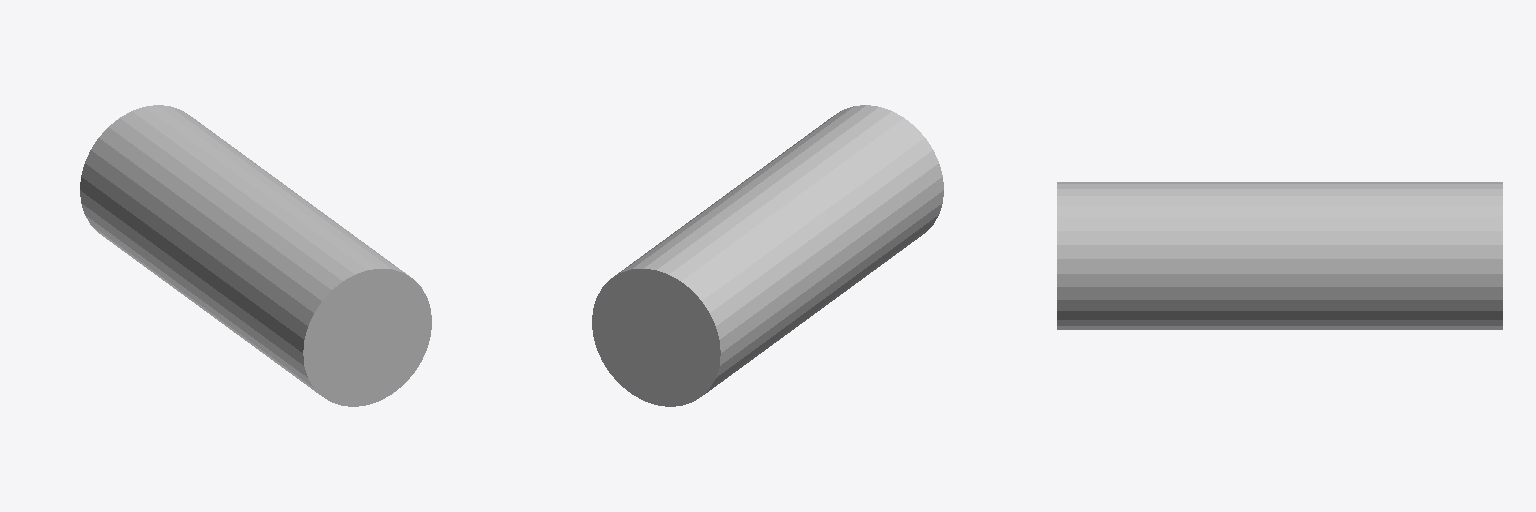
Rendered from newPlayer.obj.
3 renders of one model, left to right at view 1: azimuth 30°, elevation 25°; view 2: azimuth 150°, elevation 25°; view 3: azimuth 270°, elevation 25°, orthographic.
Visible parts, largest first — view 1: Cylinder; view 2: Cylinder; view 3: Cylinder.
Boxes of the visible parts, box(x1,y1,x2,y2) form: Cylinder: box(80, 105, 431, 406); Cylinder: box(592, 105, 943, 406); Cylinder: box(1057, 182, 1502, 329).
Size of the model in its own units: 1 by 1 by 3.